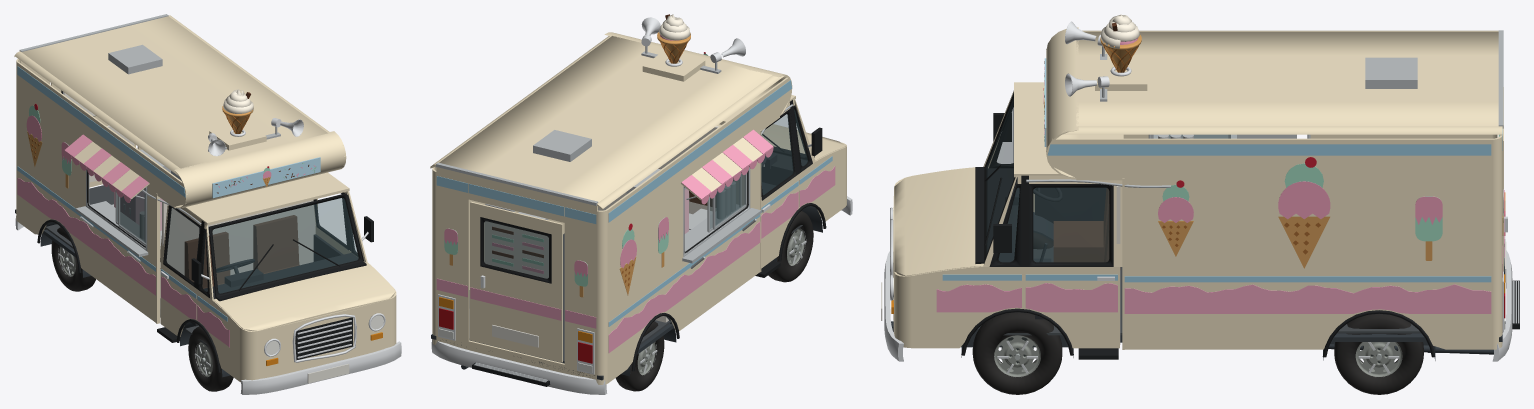
Rendered from cornet.glb.
The picture shows the model from 3 angles, left to right: view 1: azimuth 30°, elevation 25°; view 2: azimuth 150°, elevation 25°; view 3: azimuth 270°, elevation 25°; orthographic projection. The views are drawn at different scales.
Parts seen in each view (by area): view 1: panel_RoofCornet, glass_FrontCornet, panel_hoodCornet, panel_CornetLutonNose, panel_CornetBoxSideL, Interior Cornet Partition, panel_CornetFrontPanel, panel_CornetCabRoof, panel_CornetLutonSideL, panel_CornetBoxUpperRearL, panel_CornetBandPinkL, Interior Cornet SeatBack1 (+42 smaller); view 2: panel_RoofCornet, panel_TailgateCornet, panel_CornetBoxSideL, panel_CornetBoxUpperRearL, panel_CornetRearPostR, panel_CornetLutonSideL, panel_CornetRearPostL, panel_CornetBandPinkL, glass_TailgateCornet, panel_bumper_rearCornet, panel_TailgateCornetMenuBoard, panel_CornetRearCornerL (+44 smaller); view 3: panel_RoofCornet, panel_CornetBoxUpperR, panel_CornetBoxSideR, panel_CornetLutonSideR, panel_CornetBandPinkR, panel_hoodCornet, glass_BodyDoorRCornet, panel_CornetBandTopR, panel_FrontWingRCornet, Tire_Tern_Carcass_FR, panel_BodyDoorRCornet, Tire_Tern_Carcass_RR (+41 smaller).
Boxes of the visible parts, left/top/right/bottom form: panel_RoofCornet: left=14, top=15, right=329, bottom=175; glass_FrontCornet: left=212, top=198, right=358, bottom=293; panel_hoodCornet: left=213, top=262, right=395, bottom=331; panel_CornetLutonNose: left=174, top=131, right=346, bottom=208; panel_CornetBoxSideL: left=17, top=156, right=155, bottom=322; Interior Cornet Partition: left=162, top=200, right=315, bottom=275; panel_CornetFrontPanel: left=257, top=299, right=389, bottom=379; panel_CornetCabRoof: left=184, top=172, right=349, bottom=225; panel_CornetLutonSideL: left=17, top=62, right=187, bottom=206; panel_CornetBoxUpperRearL: left=17, top=91, right=85, bottom=206; panel_CornetBandPinkL: left=17, top=178, right=155, bottom=295; Interior Cornet SeatBack1: left=253, top=215, right=299, bottom=273; panel_RoofCornet: left=430, top=36, right=785, bottom=210; panel_TailgateCornet: left=470, top=264, right=562, bottom=362; panel_CornetBoxSideL: left=608, top=201, right=759, bottom=383; panel_CornetBoxUpperRearL: left=608, top=187, right=683, bottom=312; panel_CornetRearPostR: left=436, top=167, right=469, bottom=349; panel_CornetLutonSideL: left=606, top=77, right=792, bottom=241; panel_CornetRearPostL: left=564, top=198, right=597, bottom=381; panel_CornetBandPinkL: left=608, top=222, right=760, bottom=352; glass_TailgateCornet: left=484, top=221, right=548, bottom=278; panel_bumper_rearCornet: left=431, top=339, right=607, bottom=394; panel_TailgateCornetMenuBoard: left=484, top=221, right=548, bottom=278; panel_CornetRearCornerL: left=597, top=209, right=607, bottom=384; panel_RoofCornet: left=1063, top=30, right=1502, bottom=134; panel_CornetBoxUpperR: left=1124, top=178, right=1492, bottom=263; panel_CornetBoxSideR: left=1124, top=264, right=1492, bottom=349; panel_CornetLutonSideR: left=1046, top=138, right=1492, bottom=177; panel_CornetBandPinkR: left=1124, top=284, right=1491, bottom=313; panel_hoodCornet: left=894, top=167, right=983, bottom=276; glass_BodyDoorRCornet: left=1033, top=188, right=1108, bottom=261; panel_CornetBandTopR: left=1047, top=144, right=1491, bottom=155; panel_FrontWingRCornet: left=911, top=266, right=1023, bottom=348; Tire_Tern_Carcass_FR: left=972, top=312, right=1062, bottom=394; panel_BodyDoorRCornet: left=1024, top=267, right=1119, bottom=348; Tire_Tern_Carcass_RR: left=1334, top=313, right=1423, bottom=394.
Bounding box in the file's own units: 2.29 × 2.98 × 5.13.
